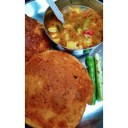poori: (25, 51, 90, 128)
